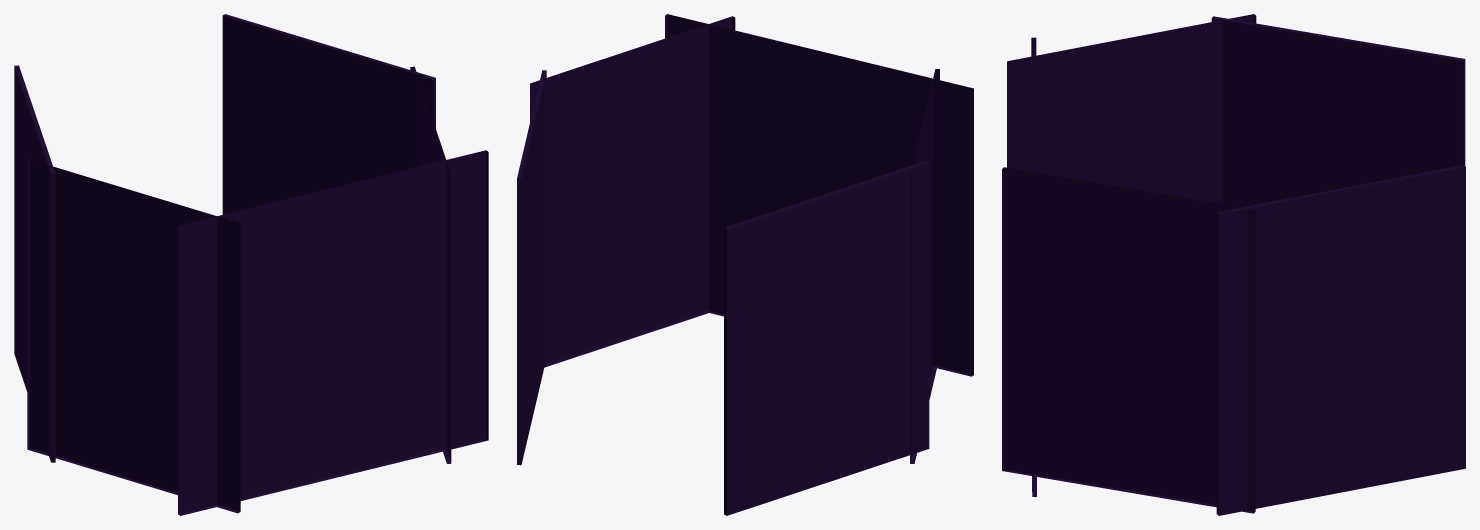
The model's file is GodTower.glb.
3 views of the same model, side by side, from view 1: azimuth 30°, elevation 25°; view 2: azimuth 150°, elevation 25°; view 3: azimuth 270°, elevation 25° (orthographic). The views are drawn at different scales.
Parts seen in each view (by area): view 1: Cube.022, Cube.020, Cube.018, Cube.019, Cube.021; view 2: Cube.019, Cube.021, Cube.022, Cube.018, Cube.020; view 3: Cube.018, Cube.021, Cube.019, Cube.020.
Boxes of the visible parts, x1,y1,x2,y2 form: Cube.022: [178, 150, 488, 515]; Cube.020: [27, 159, 240, 513]; Cube.018: [222, 14, 435, 214]; Cube.019: [14, 65, 55, 462]; Cube.021: [410, 66, 451, 463]; Cube.019: [724, 160, 929, 515]; Cube.021: [530, 16, 735, 367]; Cube.022: [665, 14, 973, 376]; Cube.018: [517, 70, 546, 465]; Cube.020: [910, 69, 939, 463]; Cube.018: [1216, 165, 1465, 515]; Cube.021: [1002, 167, 1255, 513]; Cube.019: [1211, 16, 1465, 207]; Cube.020: [1007, 14, 1256, 204].
Size of the model in its own units: 1189 by 838 by 1166.
